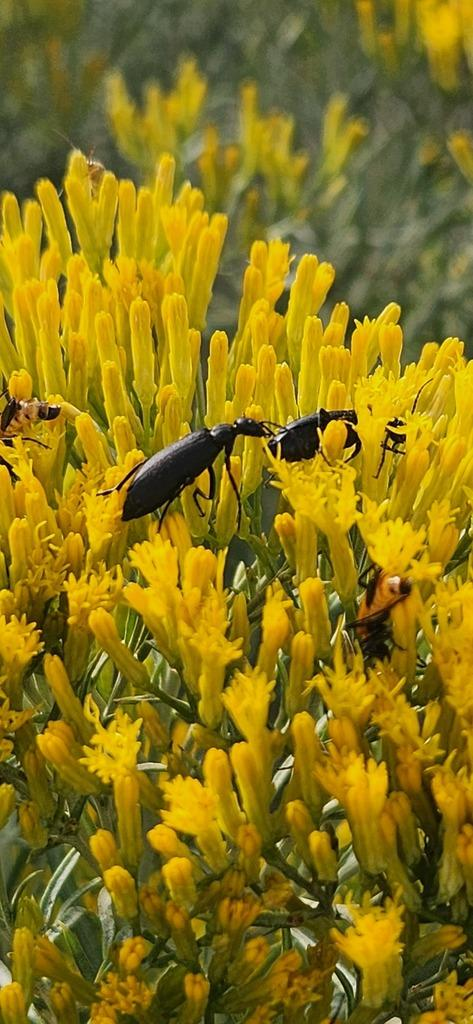blister_beetle: (75, 382, 280, 558), (257, 348, 431, 509)
